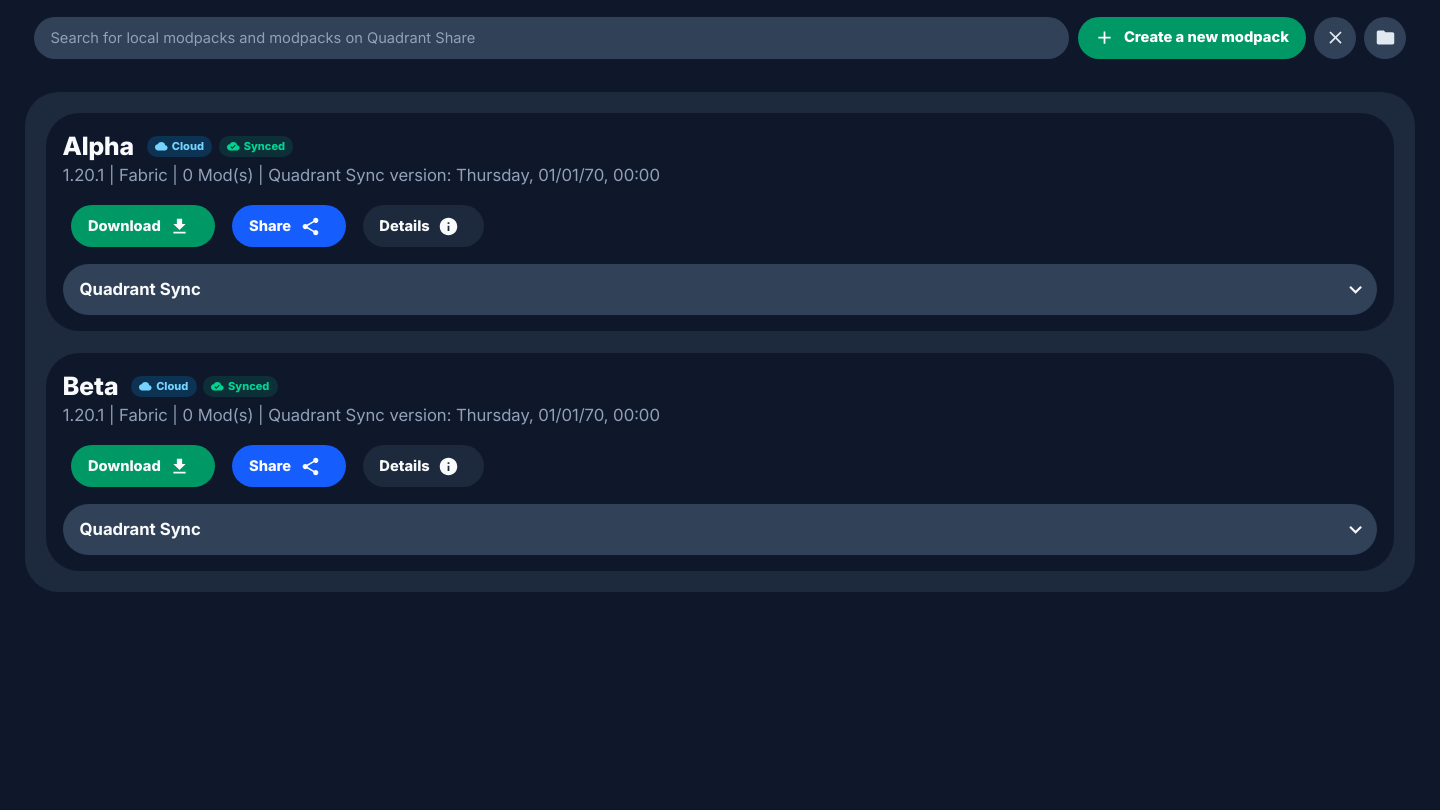
ApplyPage › filters cloud-only modpacks by the search query
Expected: the heading "Beta" is shown, x1=63 y1=370 x2=119 y2=403
In the field: (551, 38) x1=34 y1=17 x2=1069 y2=59, type "alp"
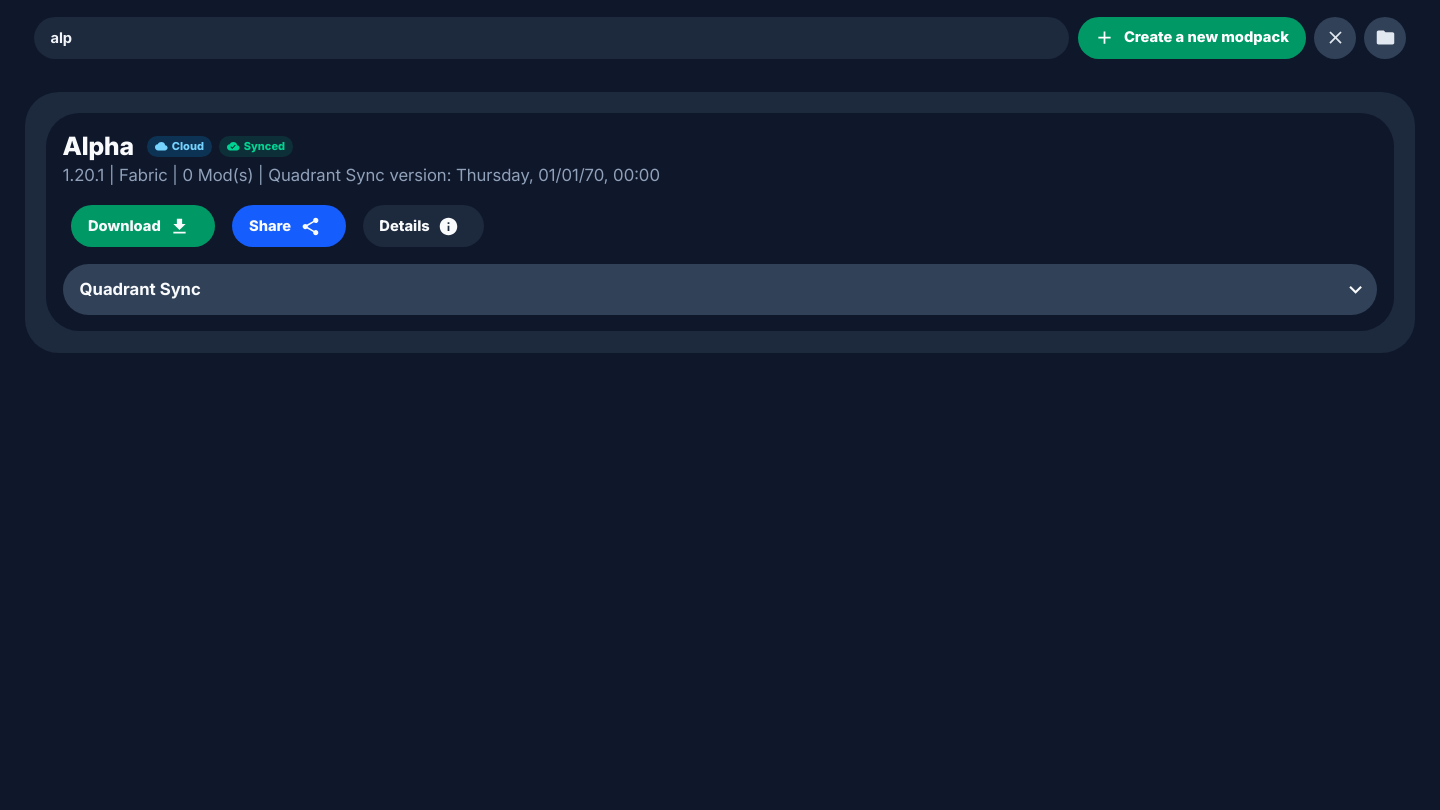
Expected: the heading "Alpha" is shown, x1=63 y1=130 x2=134 y2=164
Expected: the heading "Beta" is gone
